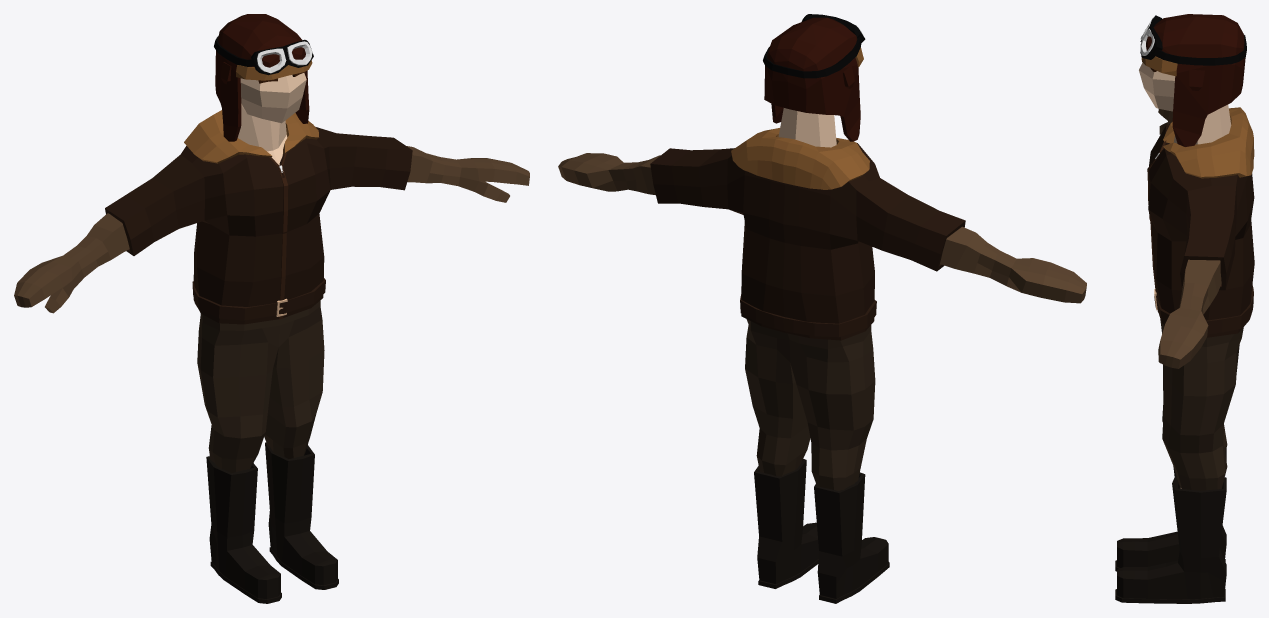
The model's file is char_pilot(save).fbx.
The picture shows the model from 3 angles, left to right: view 1: azimuth 30°, elevation 25°; view 2: azimuth 150°, elevation 25°; view 3: azimuth 270°, elevation 25°; orthographic projection. The views are drawn at different scales.
Parts seen in each view (by area): view 1: Jacket, Plane, left_shoe, left_glove, Hat, Body, upper_fur, Belt, Glasses2, zip_track, Hat2; view 2: Jacket, Plane, left_shoe, left_glove, Hat, upper_fur, Belt, Body, Glasses; view 3: Jacket, left_shoe, Plane, Hat, left_glove, upper_fur, Body, Belt, Glasses, Hat2, Glasses1, Glasses2 (+1 smaller).
Boxes of the visible parts, bbox=[...] form: Jacket: bbox=[105, 127, 412, 324]; Plane: bbox=[197, 300, 324, 472]; left_shoe: bbox=[206, 442, 338, 603]; left_glove: bbox=[14, 146, 529, 313]; Hat: bbox=[215, 14, 309, 141]; Body: bbox=[237, 73, 306, 165]; upper_fur: bbox=[184, 110, 318, 163]; Belt: bbox=[192, 278, 325, 320]; Glasses2: bbox=[257, 41, 312, 73]; zip_track: bbox=[269, 152, 288, 319]; Hat2: bbox=[236, 60, 312, 80]; Jacket: bbox=[650, 143, 965, 340]; Plane: bbox=[745, 319, 875, 490]; left_shoe: bbox=[754, 459, 889, 603]; left_glove: bbox=[558, 153, 1086, 303]; Hat: bbox=[764, 17, 860, 141]; upper_fur: bbox=[731, 128, 869, 189]; Belt: bbox=[740, 294, 876, 337]; Body: bbox=[778, 108, 836, 147]; Glasses: bbox=[763, 35, 862, 78]; Jacket: bbox=[1148, 124, 1254, 337]; left_shoe: bbox=[1115, 448, 1226, 603]; Plane: bbox=[1160, 319, 1243, 490]; Hat: bbox=[1146, 14, 1245, 146]; left_glove: bbox=[1158, 109, 1221, 368]; upper_fur: bbox=[1163, 107, 1254, 178]; Body: bbox=[1139, 62, 1231, 488]; Belt: bbox=[1154, 285, 1253, 334]; Glasses: bbox=[1153, 35, 1246, 65]; Hat2: bbox=[1141, 56, 1177, 76]; Glasses1: bbox=[1140, 15, 1162, 59]; Glasses2: bbox=[1140, 17, 1154, 55].
Size of the model in its own units: 653 by 666 by 149.
